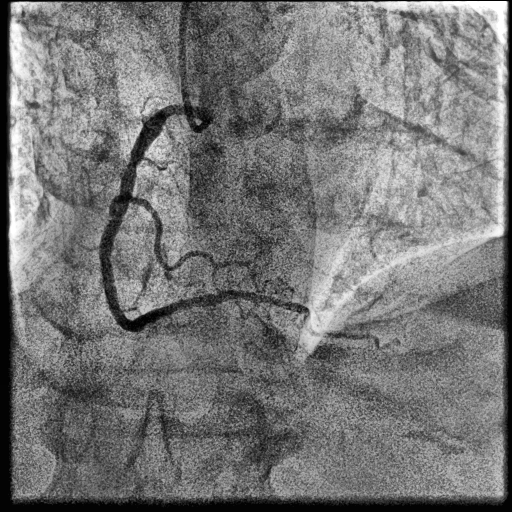pda: (233, 290, 400, 352)
rca: (99, 105, 234, 331)
